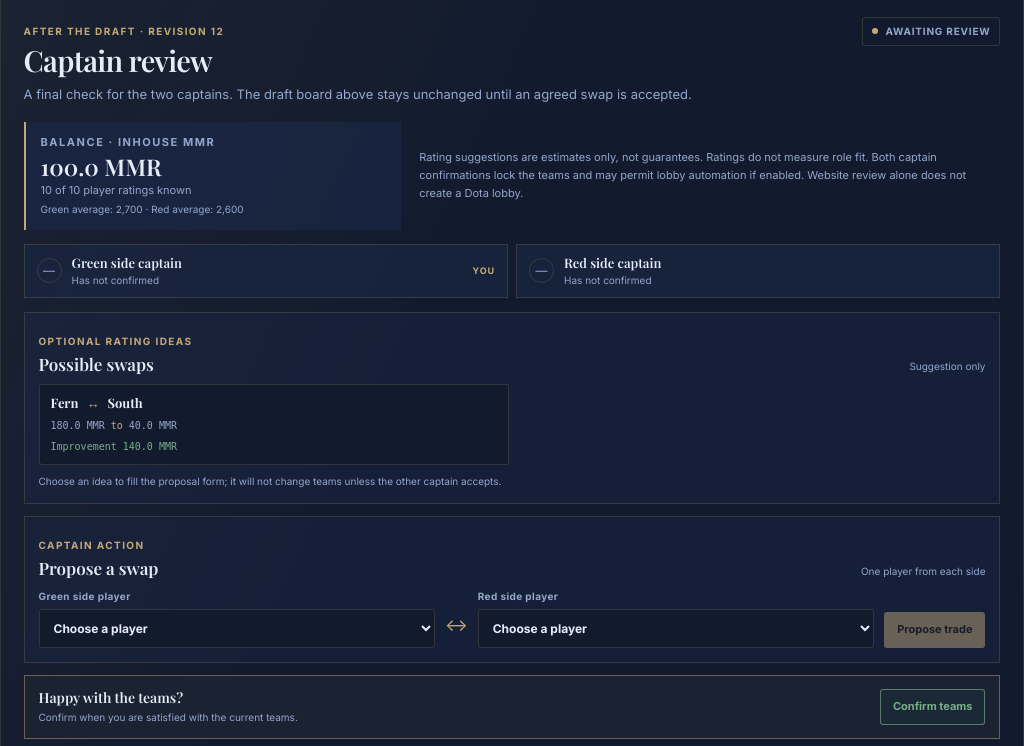
Test: DraftTeamReview › surfaces a server conflict response
Click the button "Confirm teams". click: (933, 707)
box: [880,689,986,725]
(page scrolled)
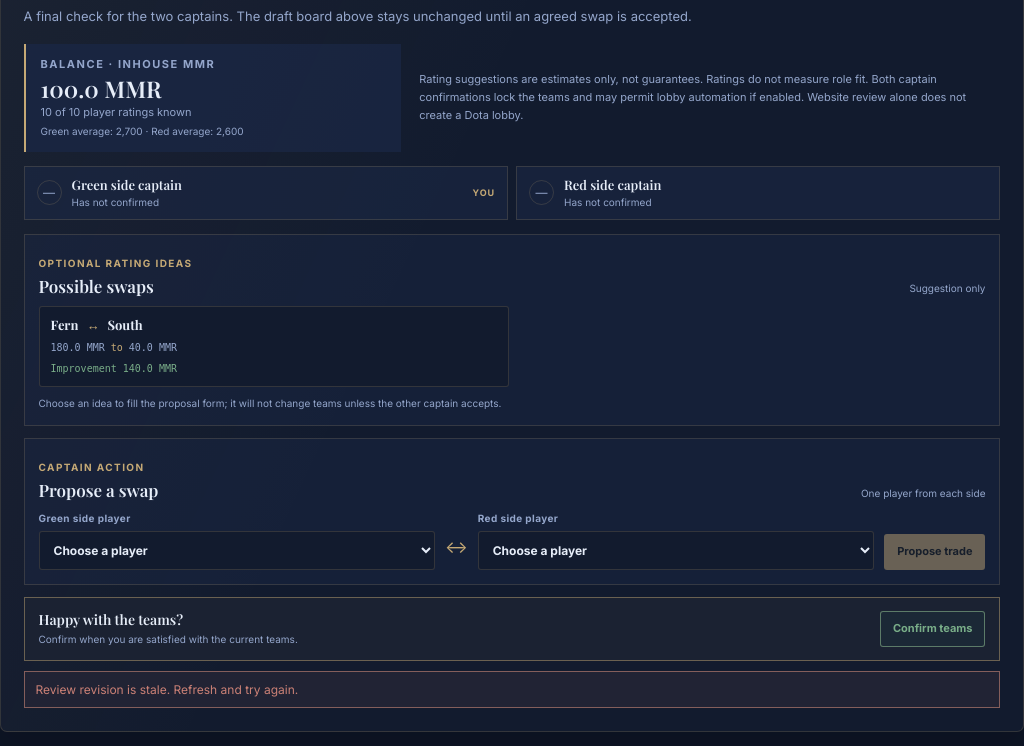
Result: the message reads "Review revision is stale. Refresh and try again." at [36,682,298,697]
